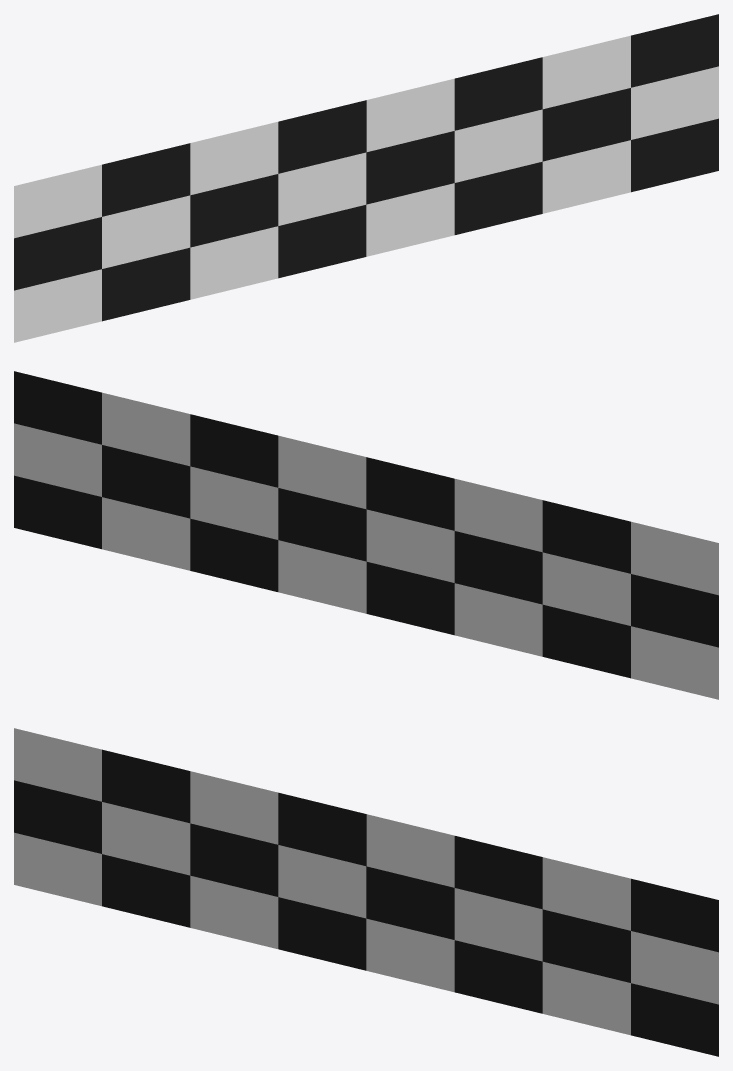
Rendered from BanderaSecrete (2).fbx.
3 views of the same model, one above another, from view 1: azimuth 30°, elevation 25°; view 2: azimuth 150°, elevation 25°; view 3: azimuth 330°, elevation 25° (orthographic).
Parts seen in each view (by area): view 1: Plane.001; view 2: Plane.001; view 3: Plane.001.
Boxes of the visible parts, bbox=[...] form: Plane.001: bbox=[14, 14, 718, 342]; Plane.001: bbox=[14, 371, 718, 699]; Plane.001: bbox=[14, 728, 718, 1056].
Size of the model in its own units: 185 by 39.41 by 1.72e-06.
Materials: 1 (1 with a texture image).
